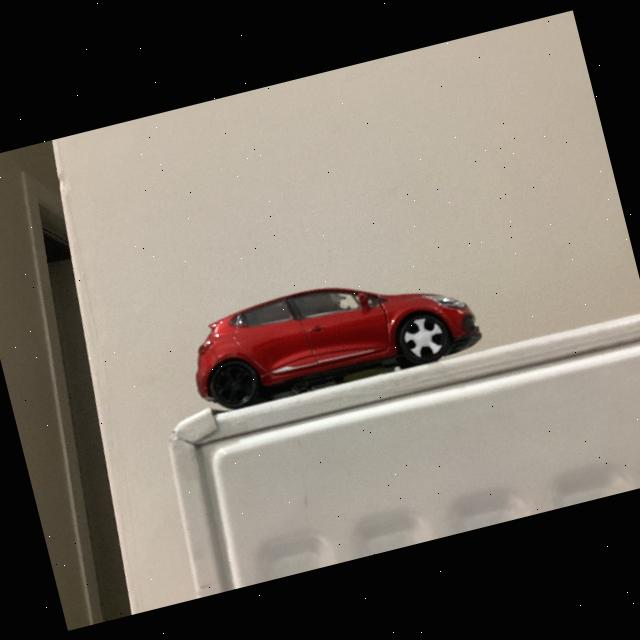Dogru_Jant: (212, 360, 256, 407)
Yanlis_Jant: (398, 312, 448, 362)
